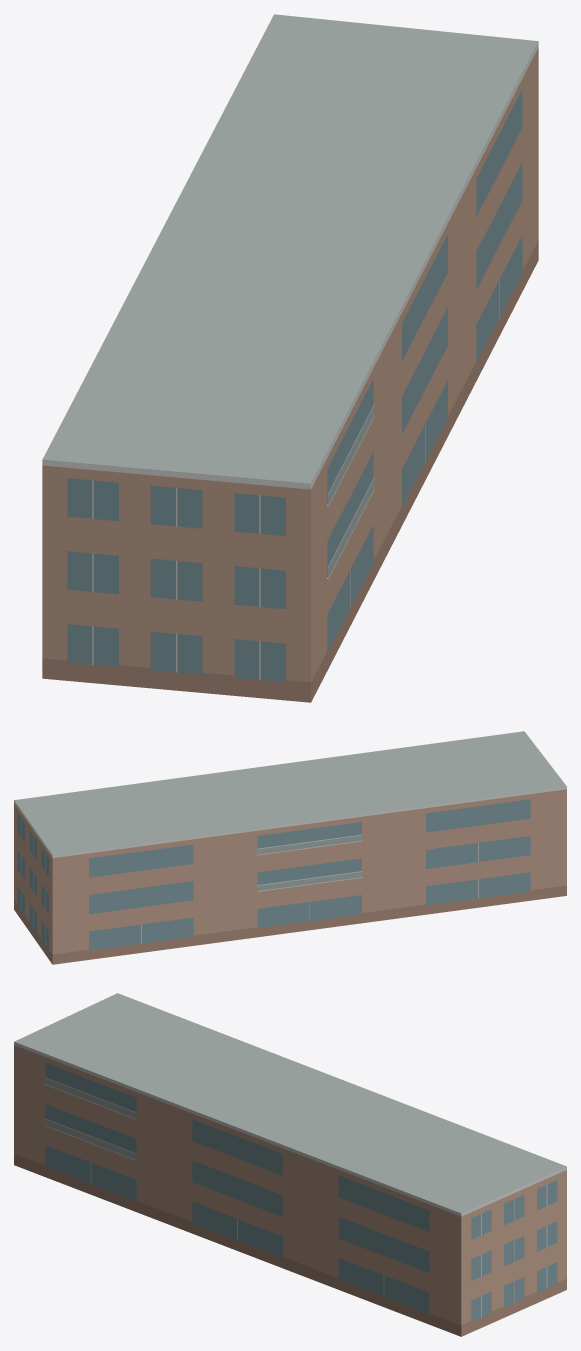
Rendered from survey-upis-33025197.glb.
3 views of the same model, one above another, from view 1: azimuth 30°, elevation 25°; view 2: azimuth 150°, elevation 25°; view 3: azimuth 270°, elevation 25° (orthographic). The views are drawn at different scales.
Parts seen in each view (by area): view 1: survey-upis-33025197.tmp; view 2: survey-upis-33025197.tmp; view 3: survey-upis-33025197.tmp.
Part boxes in pixels (<box>): survey-upis-33025197.tmp: <box>42,14,538,702</box>; survey-upis-33025197.tmp: <box>14,731,566,964</box>; survey-upis-33025197.tmp: <box>14,993,566,1336</box>.
Size of the model in its own units: 35.05 by 9.15 by 37.15.
